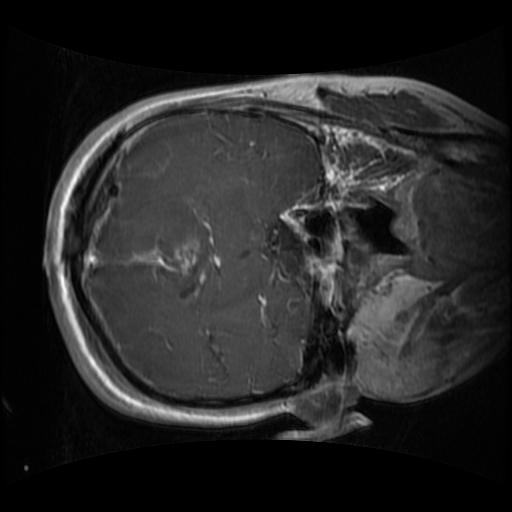glioma: (117, 203, 223, 305)
